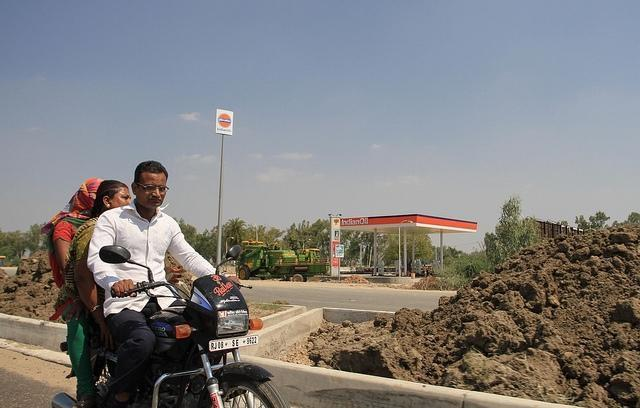motorcycle: (52, 246, 288, 404)
truck: (238, 237, 332, 282)
